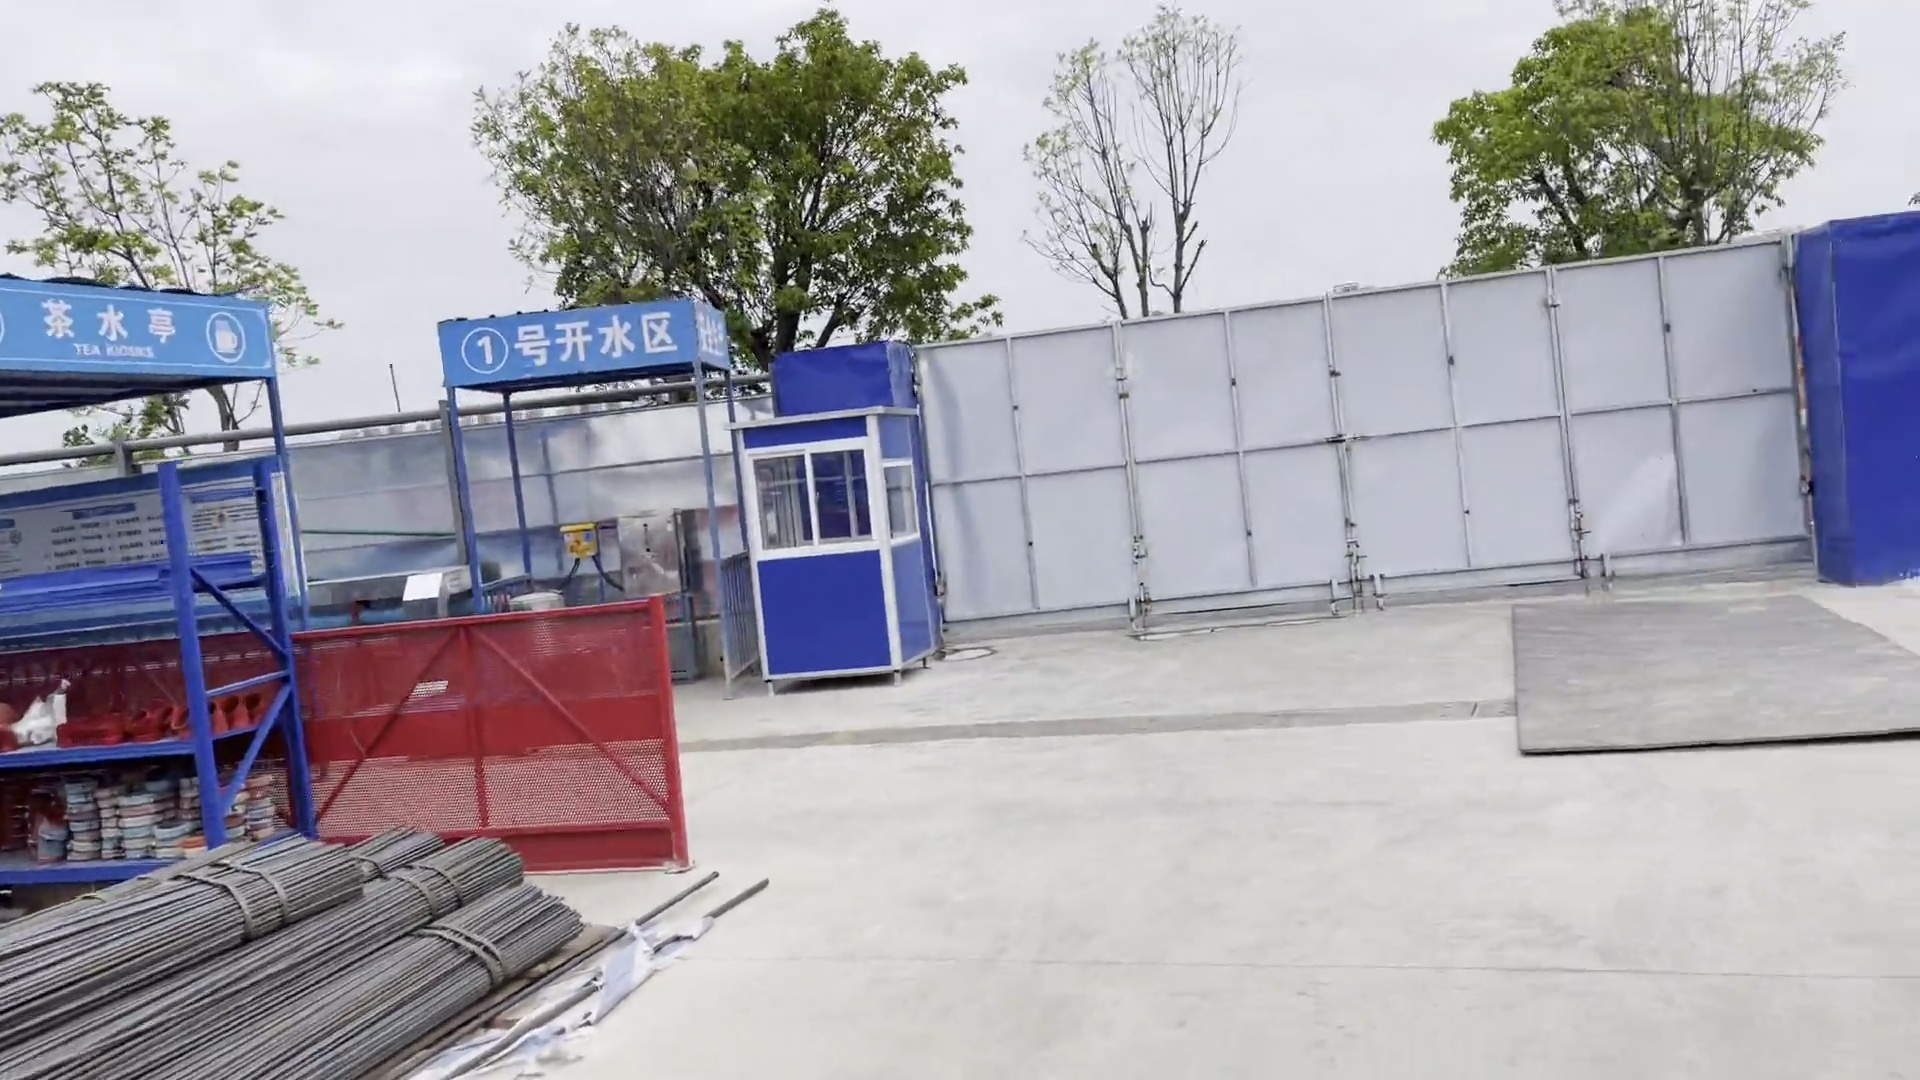ebox: (549, 518, 607, 559)
fence: (287, 603, 702, 884)
rebar: (1, 814, 596, 1080)
slogan: (418, 291, 753, 430), (1, 257, 284, 411), (1, 454, 302, 588)
